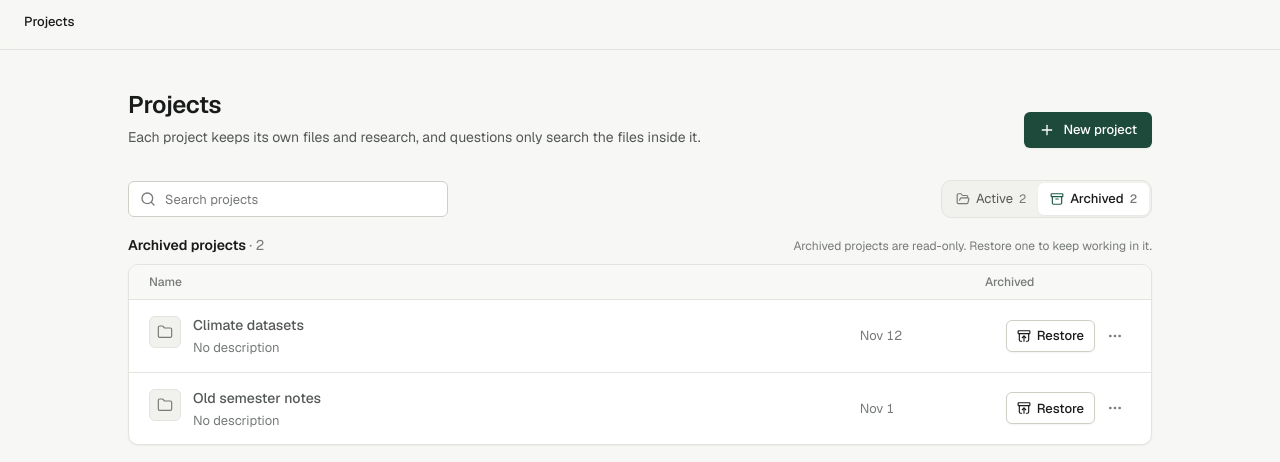
Projects archive › restores a project back to the active list
The width and height of the screenshot is (1280, 462).
Click the button "Restore" in the row of "Climate datasets": x=1050, y=336 [1006, 320, 1095, 352]
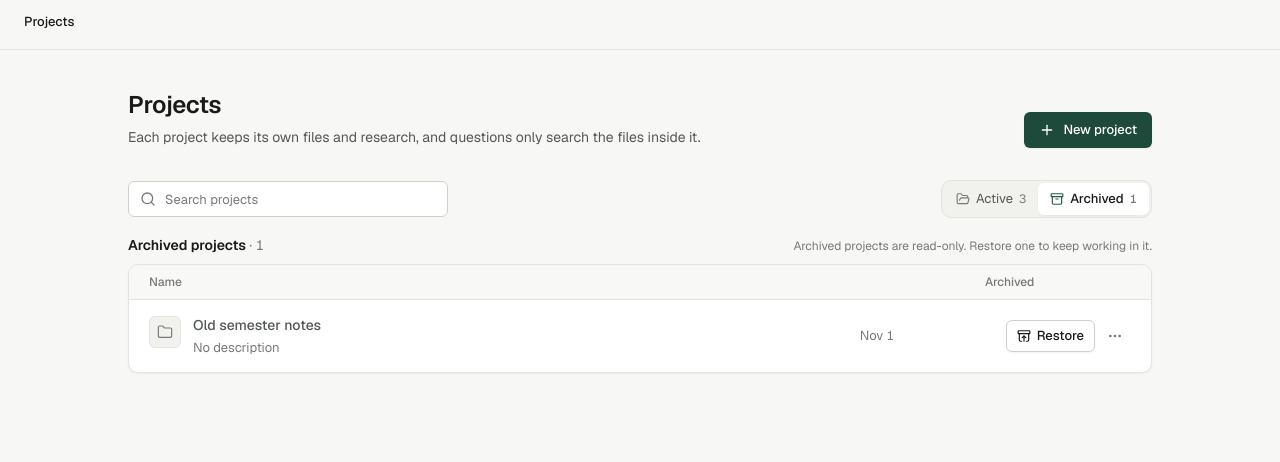
Check: the tab "Archived 1" is shown, box [1038, 183, 1149, 215]
Check: the tab "Active 3" is shown, box [944, 183, 1038, 215]
